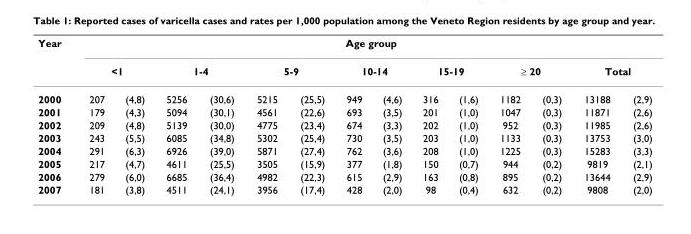table: (37, 36, 651, 195)
table column: (572, 36, 620, 195), (197, 36, 244, 195), (288, 36, 334, 195), (244, 36, 288, 195), (154, 36, 197, 195), (488, 36, 530, 195), (530, 36, 572, 195), (447, 36, 488, 195), (74, 36, 114, 195), (114, 36, 154, 195), (371, 36, 411, 195), (37, 36, 74, 195), (334, 36, 371, 195), (411, 36, 447, 195), (620, 36, 651, 195)
table column header: (37, 36, 651, 105)
table row: (37, 56, 651, 84), (37, 84, 651, 105), (37, 36, 651, 56), (37, 105, 651, 118), (37, 118, 651, 131), (37, 131, 651, 144), (37, 156, 651, 169), (37, 169, 651, 182), (37, 182, 651, 195), (37, 144, 651, 156)
table spanning cell: (74, 36, 651, 56), (37, 36, 74, 105), (154, 56, 244, 84), (244, 56, 334, 84), (488, 56, 572, 84), (74, 56, 154, 84), (572, 56, 651, 84), (334, 56, 411, 84), (411, 56, 488, 84)
